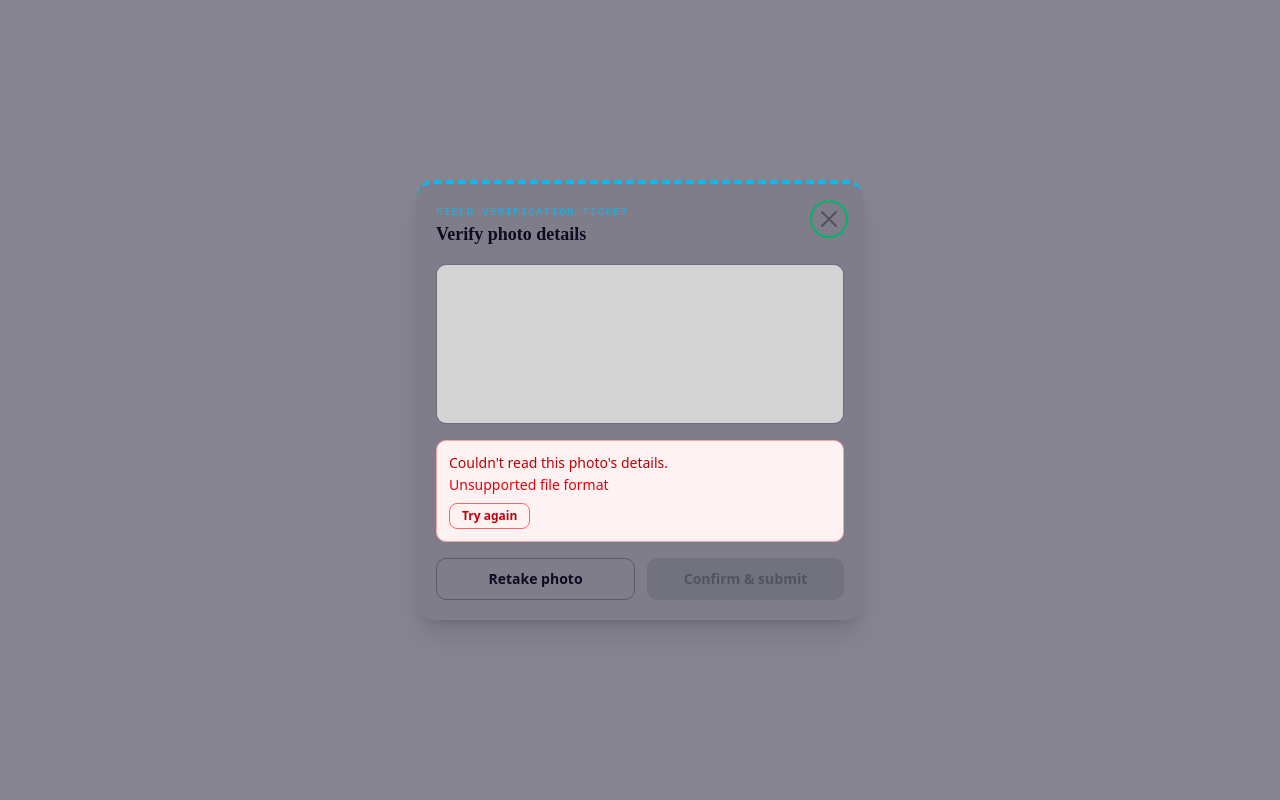
Test case: PhotoMetadataModal › shows a retry affordance when extraction fails, and recovers on retry
The image size is (1280, 800).
Expected: the message "Couldn't read this photo's details. Unsupported file format Try again" is shown, [436,440,844,542]
Expected: the text "Unsupported file format" is shown, [449,475,609,494]
Step 1. Click the button "Try again" → (490, 516), box [449,503,530,529]
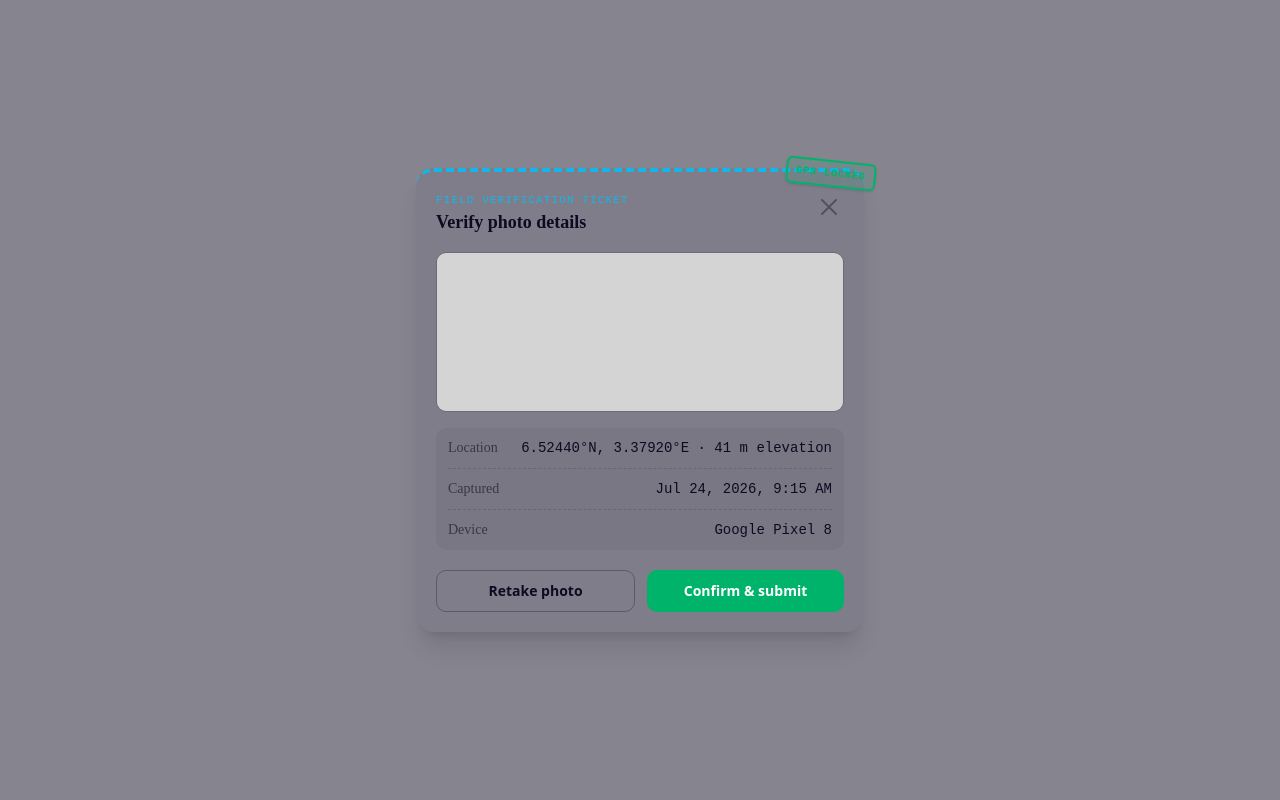
Now the text with test id "status-stamp" reads "GPS LOCKED", box [796,164,866,182]
